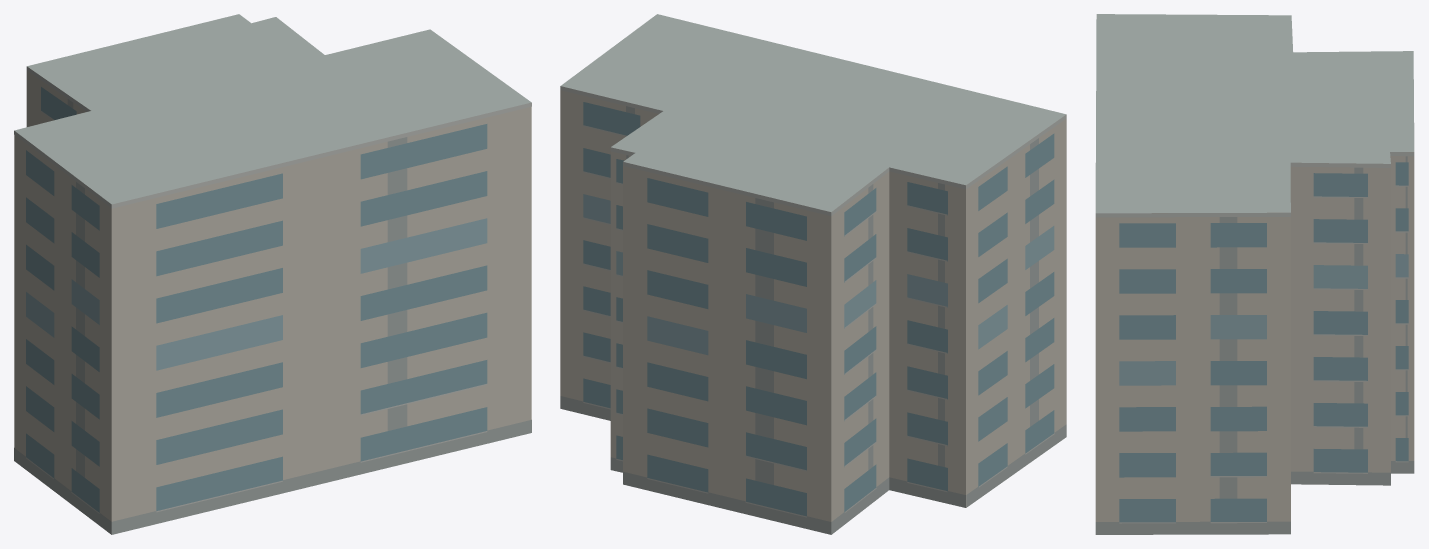
File: survey-upis-32823800.glb
3 renders of one model, left to right at view 1: azimuth 30°, elevation 25°; view 2: azimuth 150°, elevation 25°; view 3: azimuth 270°, elevation 25°, orthographic. The views are drawn at different scales.
Parts seen in each view (by area): view 1: survey-upis-32823800.tmp; view 2: survey-upis-32823800.tmp; view 3: survey-upis-32823800.tmp.
Part boxes in pixels (x1,y1,x2,y2): survey-upis-32823800.tmp: (14,14,531,534); survey-upis-32823800.tmp: (560,14,1066,534); survey-upis-32823800.tmp: (1095,14,1414,534).
Size of the model in its own units: 25.52 by 19.2 by 17.27.
